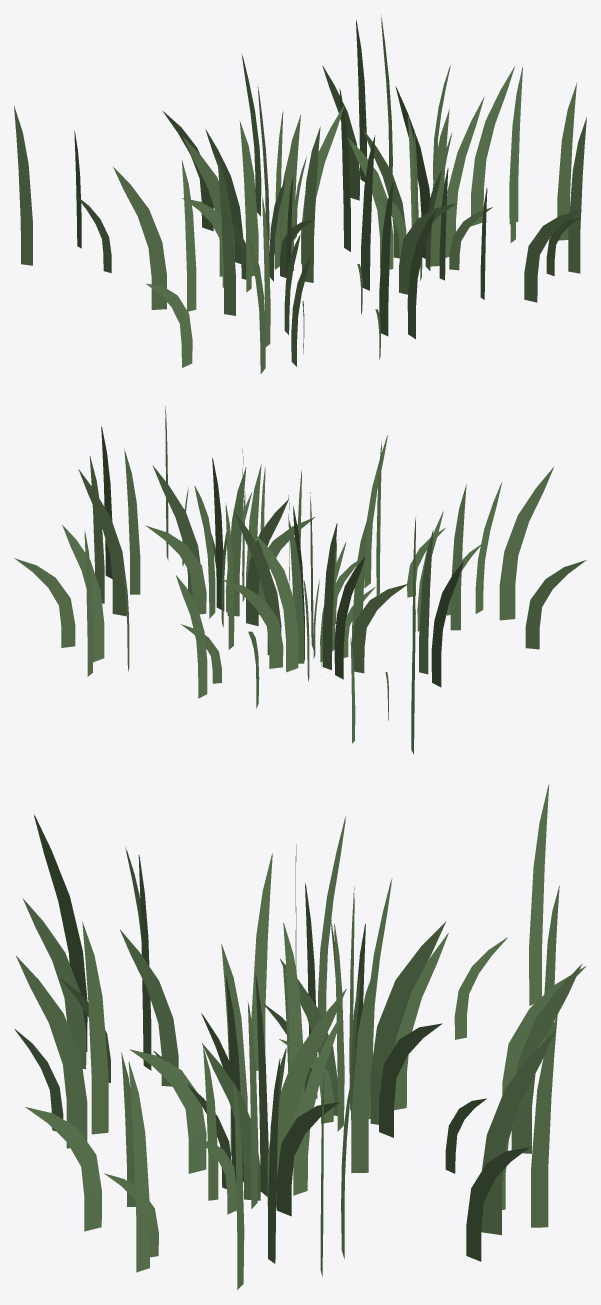
Rendered from Grass_04.fbx.
3 views of the same model, one above another, from view 1: azimuth 30°, elevation 25°; view 2: azimuth 150°, elevation 25°; view 3: azimuth 270°, elevation 25° (orthographic). The views are drawn at different scales.
Visible parts, largest first — view 1: Grass_04; view 2: Grass_04; view 3: Grass_04.
Part boxes in pixels (x1,y1,x2,y2): Grass_04: (14, 15, 586, 373); Grass_04: (14, 406, 586, 754); Grass_04: (14, 784, 586, 1289).
Size of the model in its own units: 50.45 by 16.99 by 39.1.
